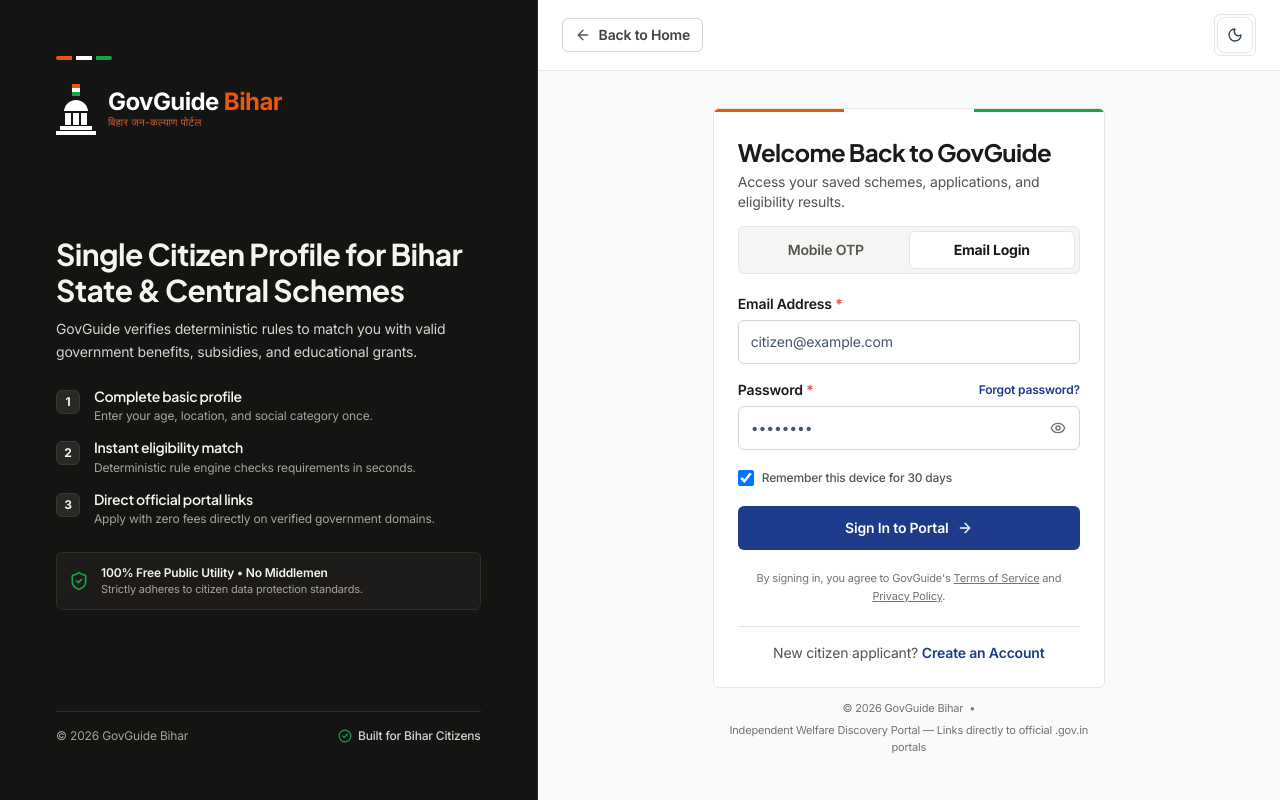
Test case: Key Application Pages › LoginPage displays server error on invalid credentials and switches to Mobile OTP notice
The image size is (1280, 800).
Type "ravi@example.com" into the field labelled "Email Address *" at (909, 342), box left=738, top=320, right=1080, bottom=364
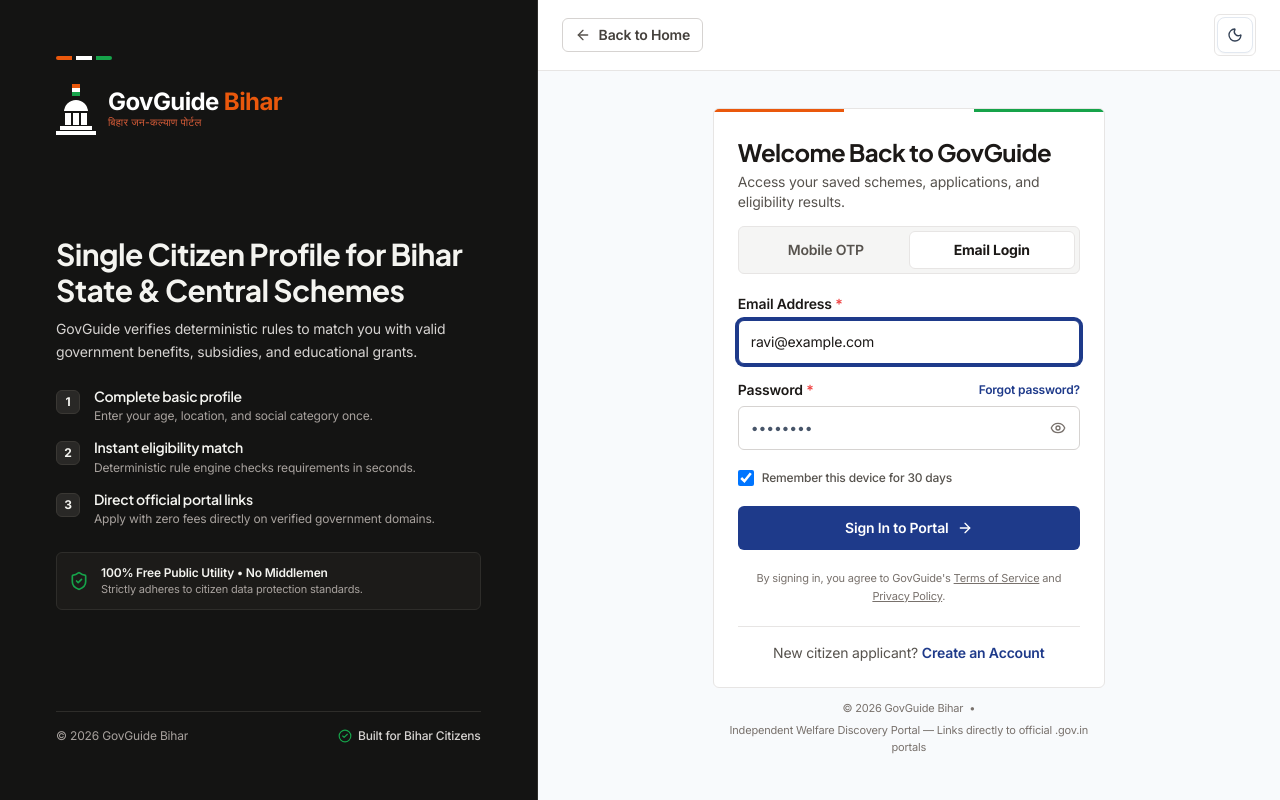
Type "wrong-password" into the password field labelled "Password *" at (909, 428), box left=738, top=406, right=1080, bottom=450
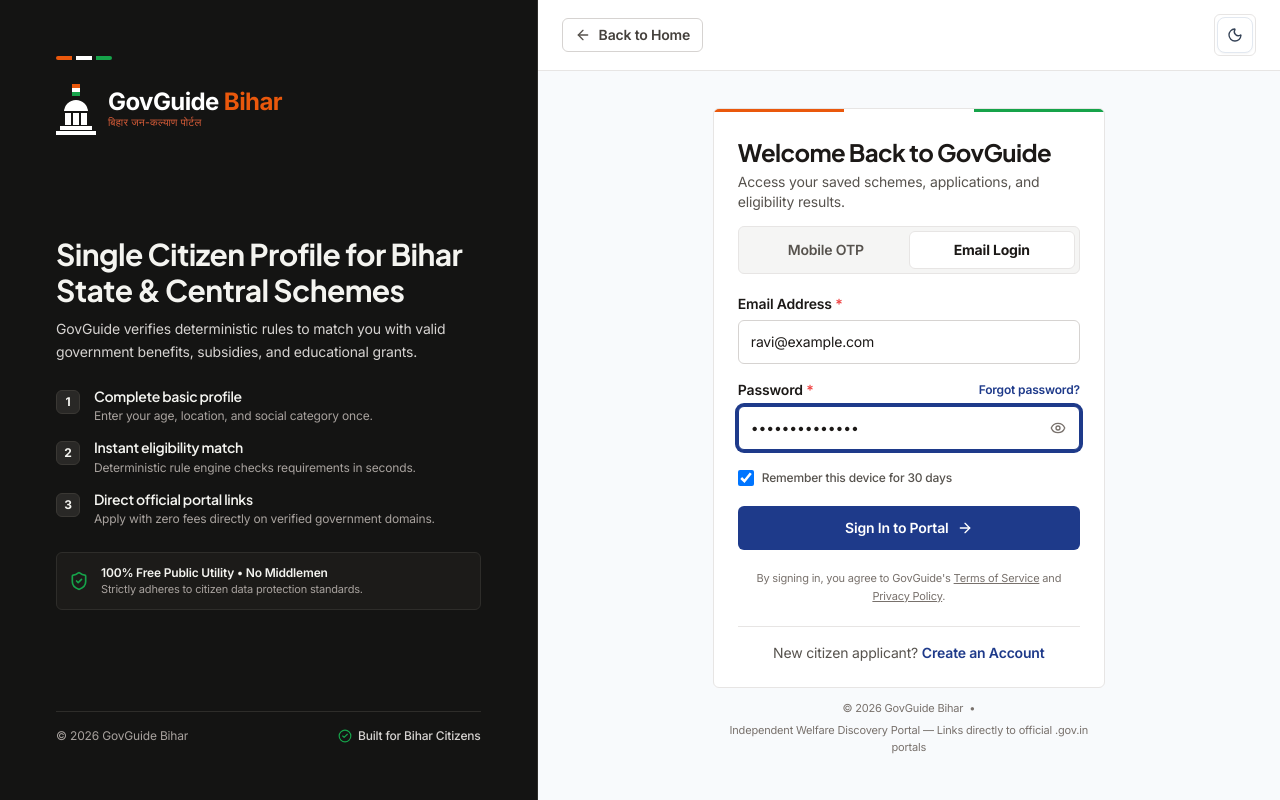
Click the button "Sign In to Portal" at (909, 528), box left=738, top=506, right=1080, bottom=550
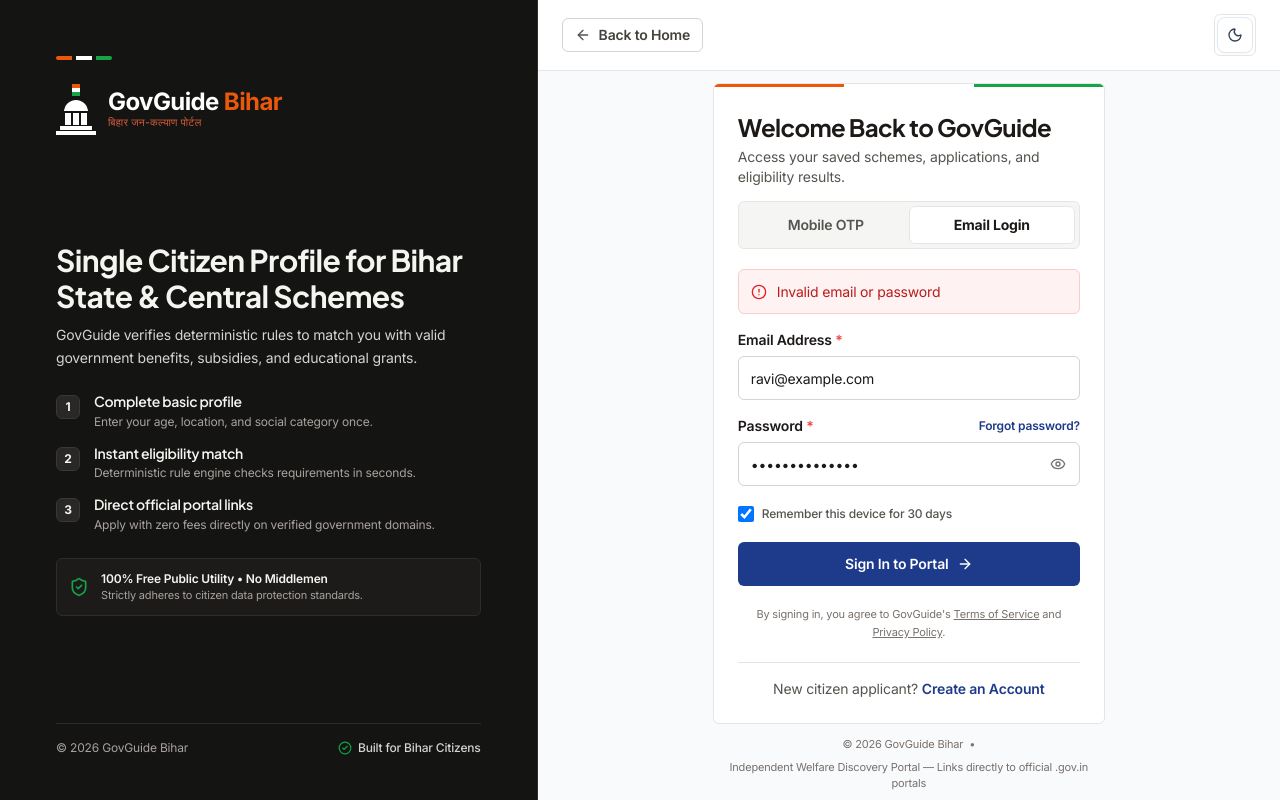
Expected: the message reads "Invalid email or password", left=777, top=283, right=940, bottom=300
Click the tab "Mobile OTP" at (826, 225), box left=743, top=206, right=909, bottom=244
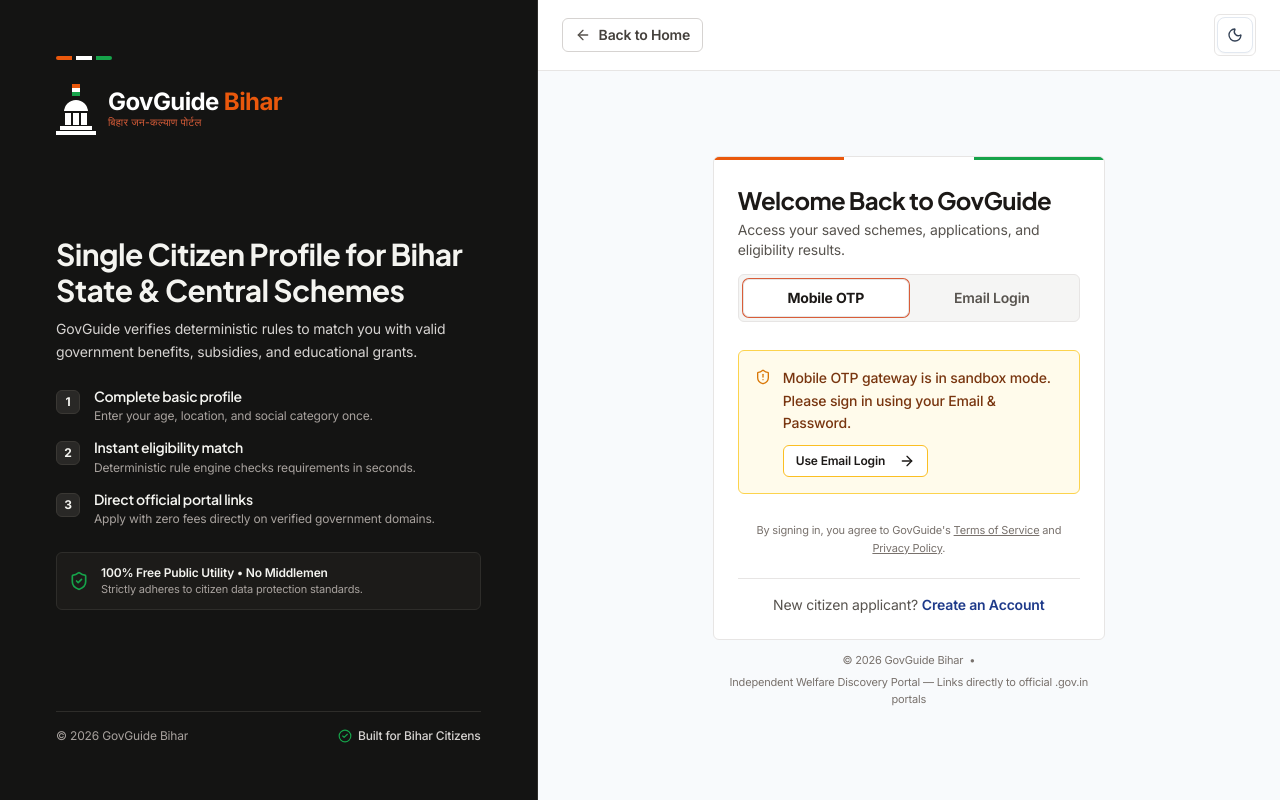
Expected: the text "Mobile OTP gateway is in sandbox mode" is shown, left=783, top=369, right=1051, bottom=431
